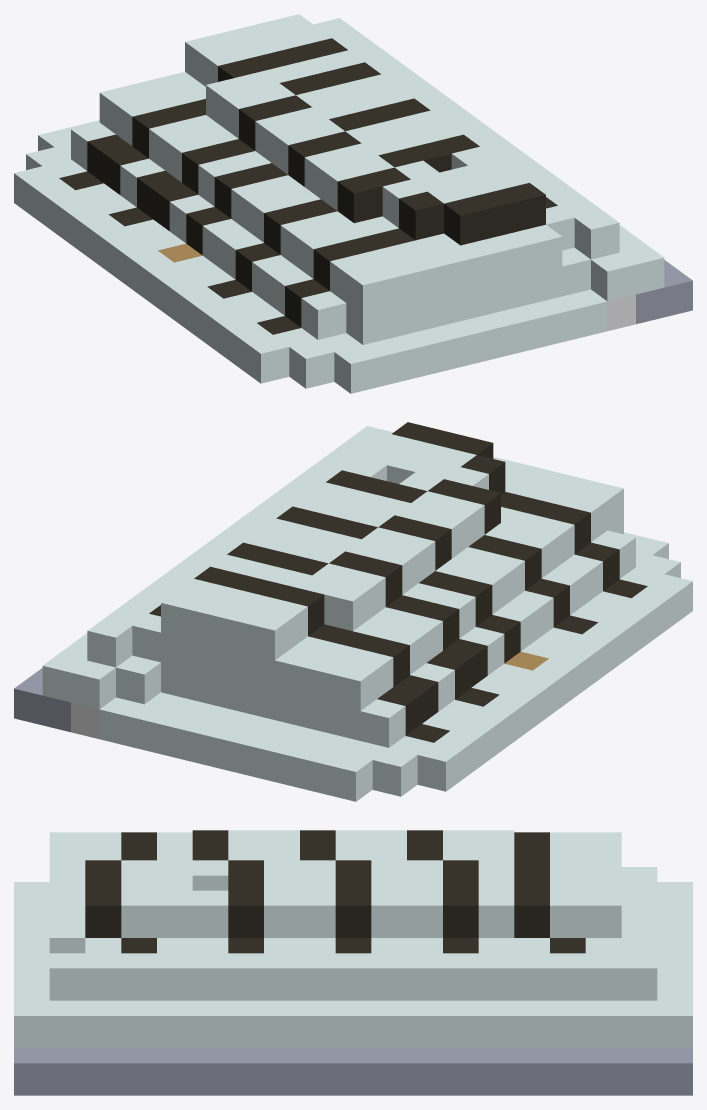
File: Medieval Assets-254-Decoration - Bookshelf - Paper.obj
The picture shows the model from 3 angles, top to bottom: view 1: azimuth 30°, elevation 25°; view 2: azimuth 150°, elevation 25°; view 3: azimuth 270°, elevation 25°; orthographic projection. The views are drawn at different scales.
Visible parts, largest first — view 1: Decoration - Bookshelf - Paper; view 2: Decoration - Bookshelf - Paper; view 3: Decoration - Bookshelf - Paper.
Part boxes in pixels (bbox=[...]): Decoration - Bookshelf - Paper: bbox=[14, 14, 692, 393]; Decoration - Bookshelf - Paper: bbox=[14, 422, 692, 801]; Decoration - Bookshelf - Paper: bbox=[14, 830, 692, 1095].
Bounding box in the file's own units: 1.4 × 0.4 × 1.9.
1 material, 1 textured.
